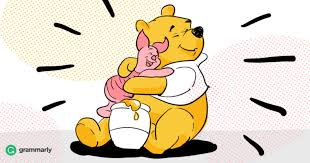Winnie: (132, 4, 210, 82)
